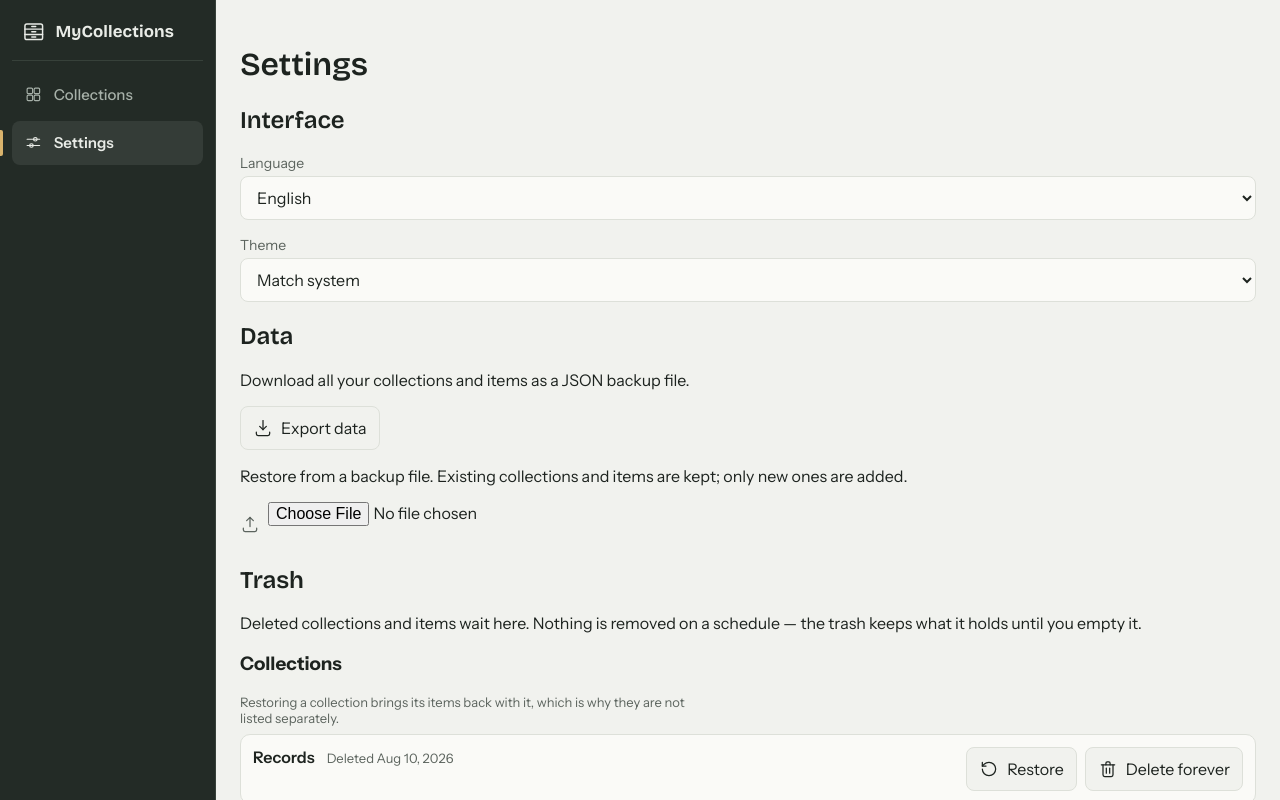
Test: Settings trash permanent delete › asks before destroying a collection, naming it and its contents
Click the button "Delete forever" at (1164, 769), box [1085,747,1243,791]
(page scrolled)
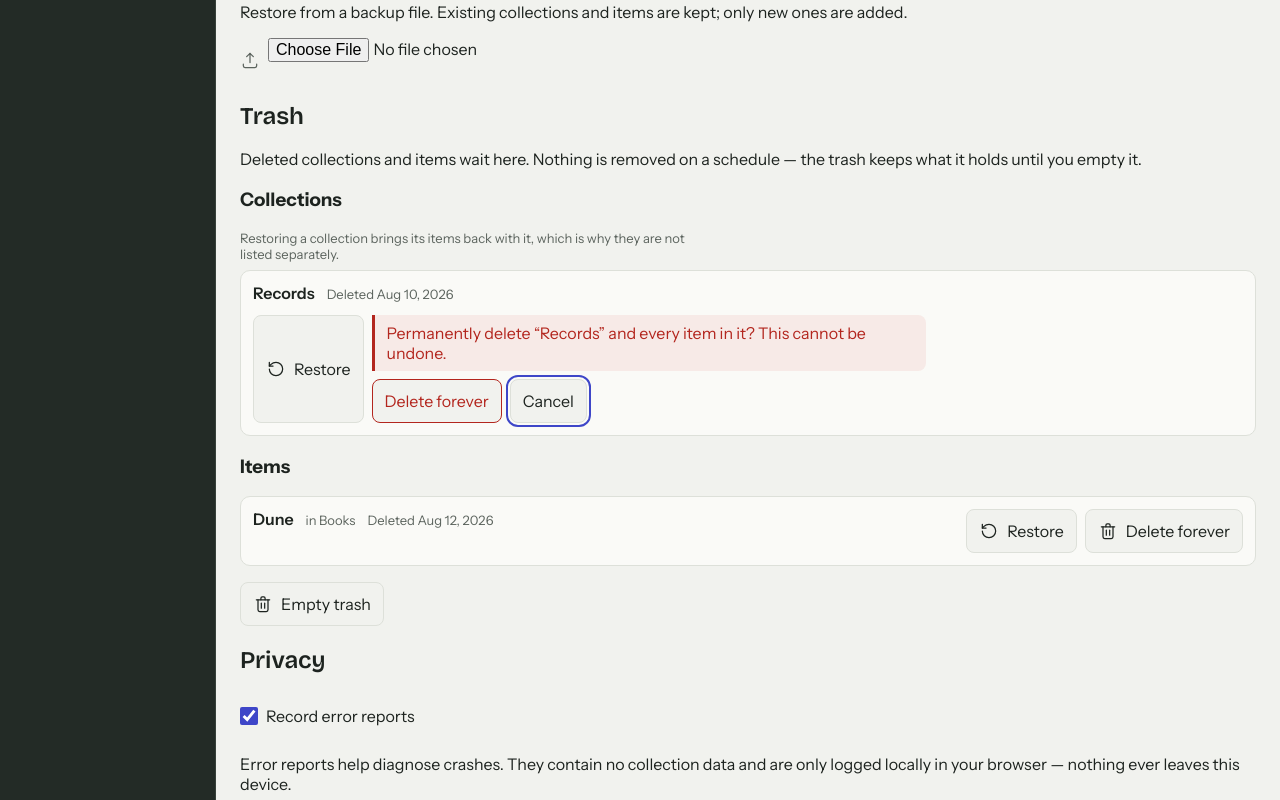
Now the message reads "Permanently delete “Records” and every item in it? This cannot be undone.", box [386,323,866,363]
